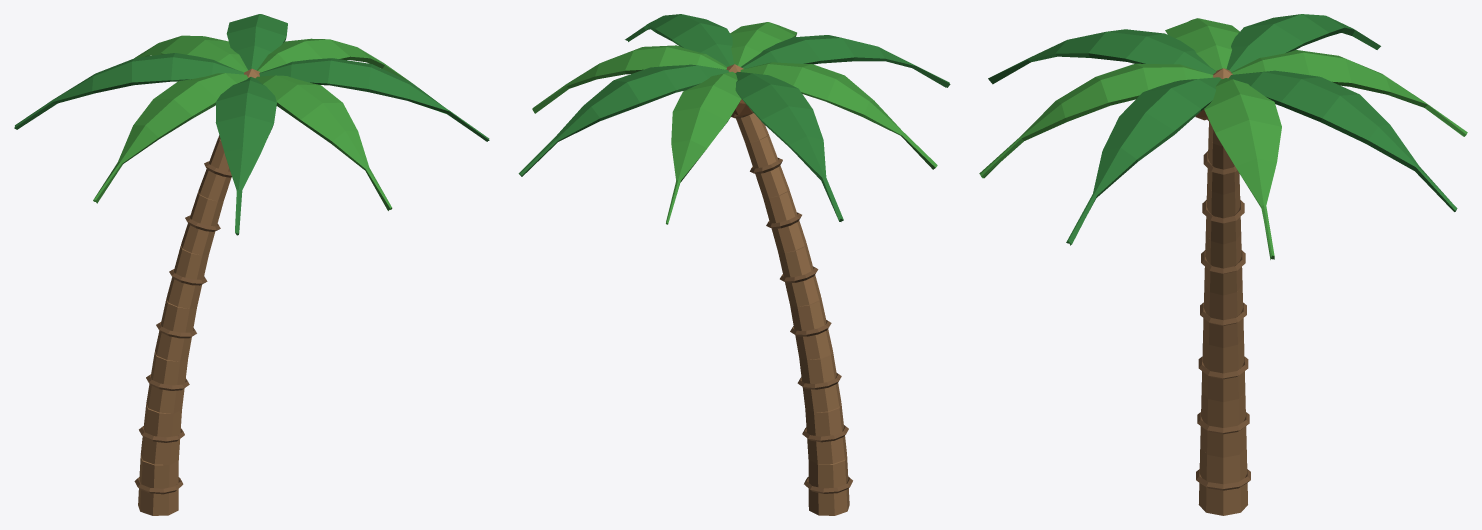
Rendered from PalmTree.fbx.
3 views of the same model, side by side, from view 1: azimuth 30°, elevation 25°; view 2: azimuth 150°, elevation 25°; view 3: azimuth 270°, elevation 25° (orthographic). The views are drawn at different scales.
Parts seen in each view (by area): view 1: FrondsDark, Fronds, Trunk, Rings; view 2: FrondsDark, Fronds, Trunk, Rings; view 3: FrondsDark, Fronds, Trunk, Rings.
Boxes of the visible parts, x1,y1,x2,y2 form: FrondsDark: (14, 14, 489, 235); Fronds: (93, 35, 410, 210); Trunk: (138, 68, 259, 515); Rings: (134, 161, 231, 494); FrondsDark: (518, 14, 950, 221); Fronds: (532, 22, 937, 224); Trunk: (726, 64, 849, 515); Rings: (731, 112, 852, 493); FrondsDark: (988, 14, 1457, 245); Fronds: (979, 18, 1467, 259); Trunk: (1198, 68, 1247, 515); Rings: (1196, 119, 1250, 490).
Size of the model in its own units: 12.29 by 13.96 by 12.28.
